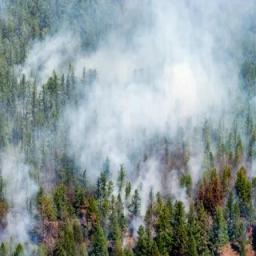Low smoke: (31, 0, 247, 195)
